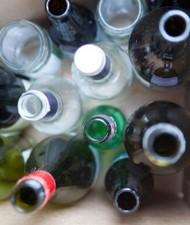glass: (19, 133, 99, 210), (127, 5, 189, 89), (124, 100, 188, 176), (17, 73, 83, 135), (0, 19, 62, 80), (70, 40, 133, 100), (44, 0, 100, 58), (104, 153, 153, 215), (95, 1, 147, 46), (0, 70, 36, 135), (82, 104, 126, 149)
